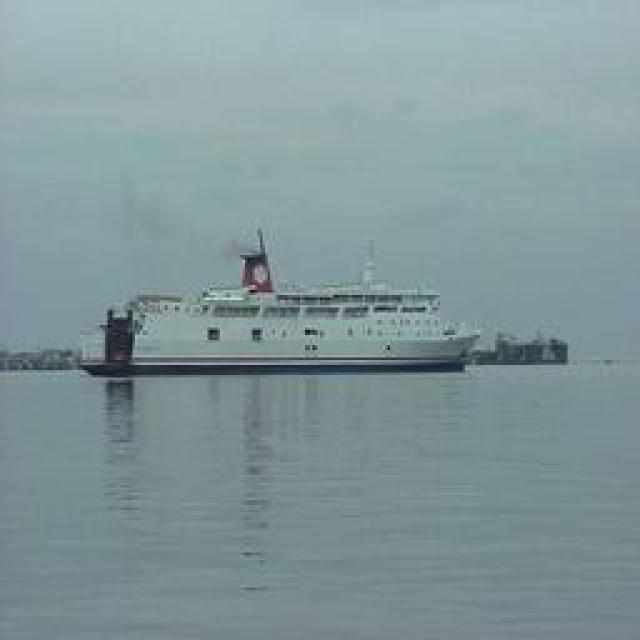Ship: (97, 228, 480, 373)
